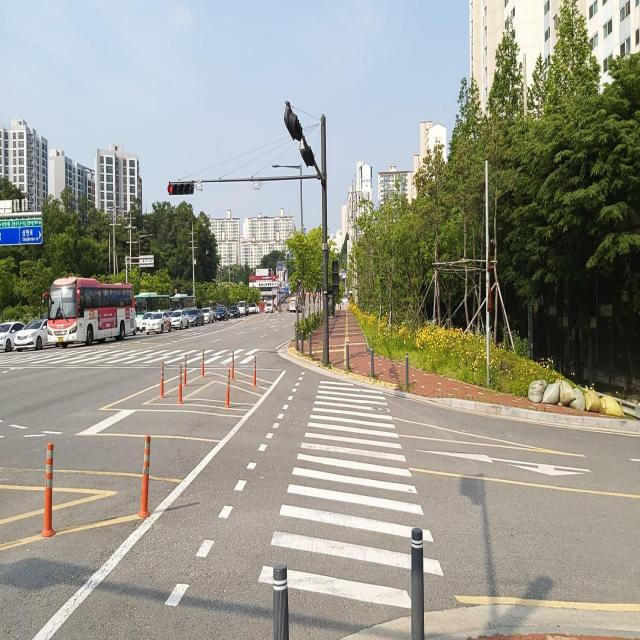횡단보도: (256, 376, 446, 614), (0, 340, 266, 369)
